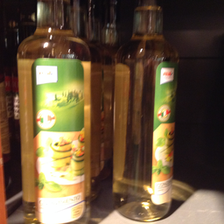vinegar: (16, 2, 96, 224), (109, 3, 182, 224)
